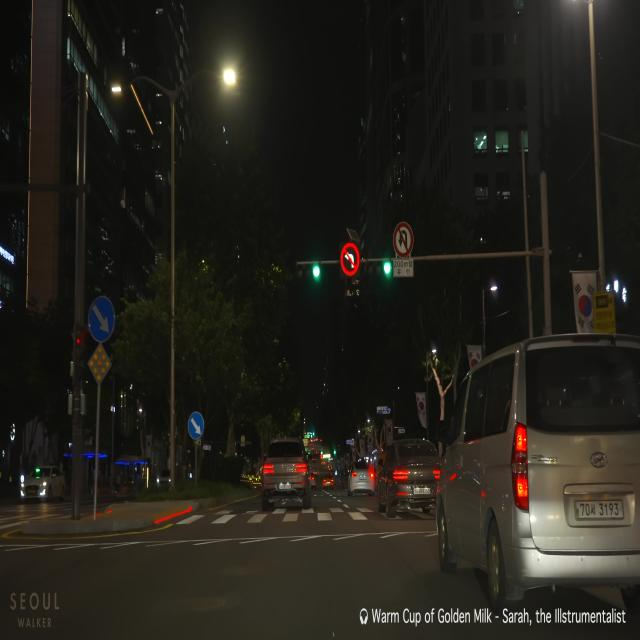Green Light: (294, 262, 322, 280), (312, 263, 320, 278), (383, 260, 391, 274)
